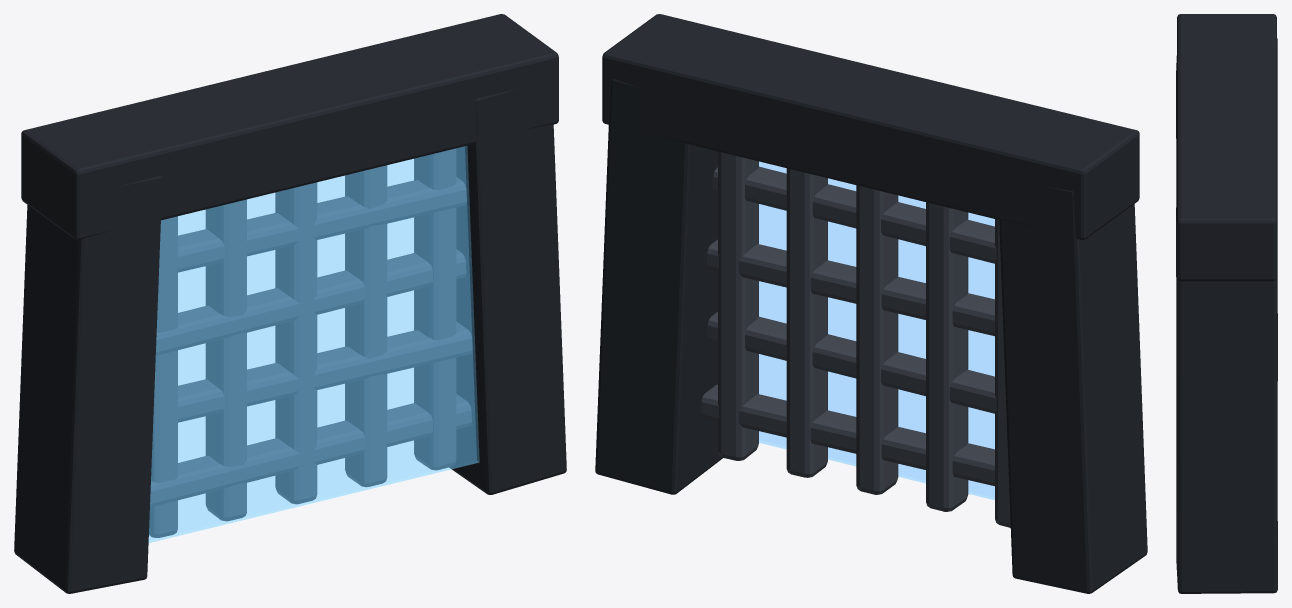
The model's file is SM_Reja_Hueco.fbx.
The picture shows the model from 3 angles, left to right: view 1: azimuth 30°, elevation 25°; view 2: azimuth 150°, elevation 25°; view 3: azimuth 270°, elevation 25°; orthographic projection. The views are drawn at different scales.
Parts seen in each view (by area): view 1: Gate_BlueSeal, Gate_Top, Gate_LeftPost, Gate_RightPost, Gate_Vertical_3, Gate_Vertical_4, Gate_Vertical_5, Gate_Vertical_2, Gate_Horizontal_1, Gate_Horizontal_2, Gate_Horizontal_4, Gate_Horizontal_3 (+1 smaller); view 2: Gate_Top, Gate_LeftPost, Gate_RightPost, Gate_BlueSeal, Gate_Vertical_3, Gate_Vertical_2, Gate_Vertical_4, Gate_Vertical_5, Gate_Horizontal_1, Gate_Horizontal_3, Gate_Horizontal_2, Gate_Horizontal_4 (+1 smaller); view 3: Gate_RightPost, Gate_Top, Gate_LeftPost.
Part boxes in pixels (bbox=[...]): Gate_BlueSeal: bbox=[148, 146, 479, 542]; Gate_Top: bbox=[21, 14, 558, 240]; Gate_LeftPost: bbox=[14, 176, 162, 593]; Gate_RightPost: bbox=[449, 88, 566, 494]; Gate_Vertical_3: bbox=[275, 182, 317, 504]; Gate_Vertical_4: bbox=[345, 165, 387, 487]; Gate_Vertical_5: bbox=[414, 148, 456, 470]; Gate_Vertical_2: bbox=[205, 199, 246, 521]; Gate_Horizontal_1: bbox=[150, 394, 471, 507]; Gate_Horizontal_2: bbox=[153, 321, 472, 425]; Gate_Horizontal_4: bbox=[178, 177, 466, 272]; Gate_Horizontal_3: bbox=[155, 249, 466, 355]; Gate_Top: bbox=[602, 14, 1139, 240]; Gate_LeftPost: bbox=[999, 186, 1147, 593]; Gate_RightPost: bbox=[595, 79, 722, 494]; Gate_BlueSeal: bbox=[759, 161, 994, 500]; Gate_Vertical_3: bbox=[856, 185, 898, 494]; Gate_Vertical_2: bbox=[926, 202, 968, 511]; Gate_Vertical_4: bbox=[786, 168, 827, 477]; Gate_Vertical_5: bbox=[718, 151, 758, 460]; Gate_Horizontal_1: bbox=[701, 384, 994, 486]; Gate_Horizontal_3: bbox=[706, 239, 994, 336]; Gate_Horizontal_2: bbox=[707, 311, 996, 413]; Gate_Horizontal_4: bbox=[712, 166, 996, 263]; Gate_RightPost: bbox=[1176, 206, 1277, 593]; Gate_Top: bbox=[1177, 14, 1276, 281]; Gate_LeftPost: bbox=[1176, 38, 1277, 380].
Size of the model in its own units: 5.59 by 4.54 by 1.12.
